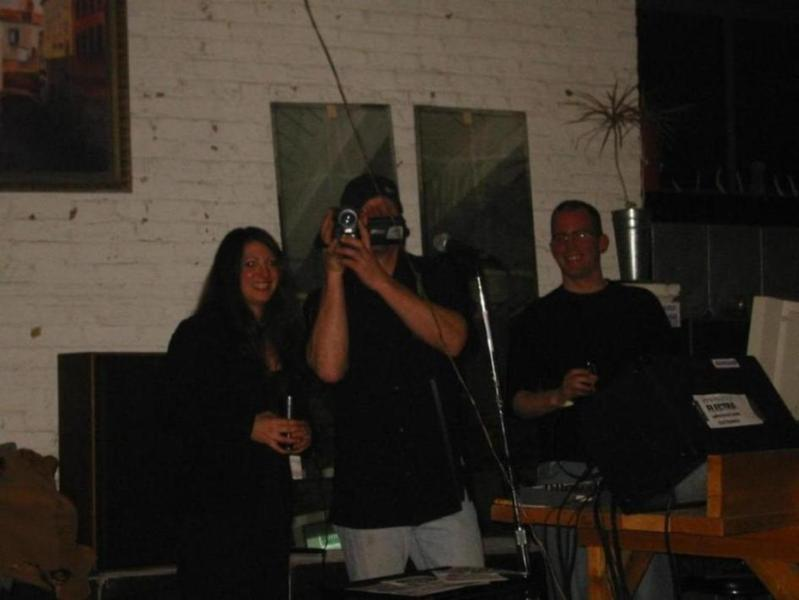person: (287, 168, 489, 586)
